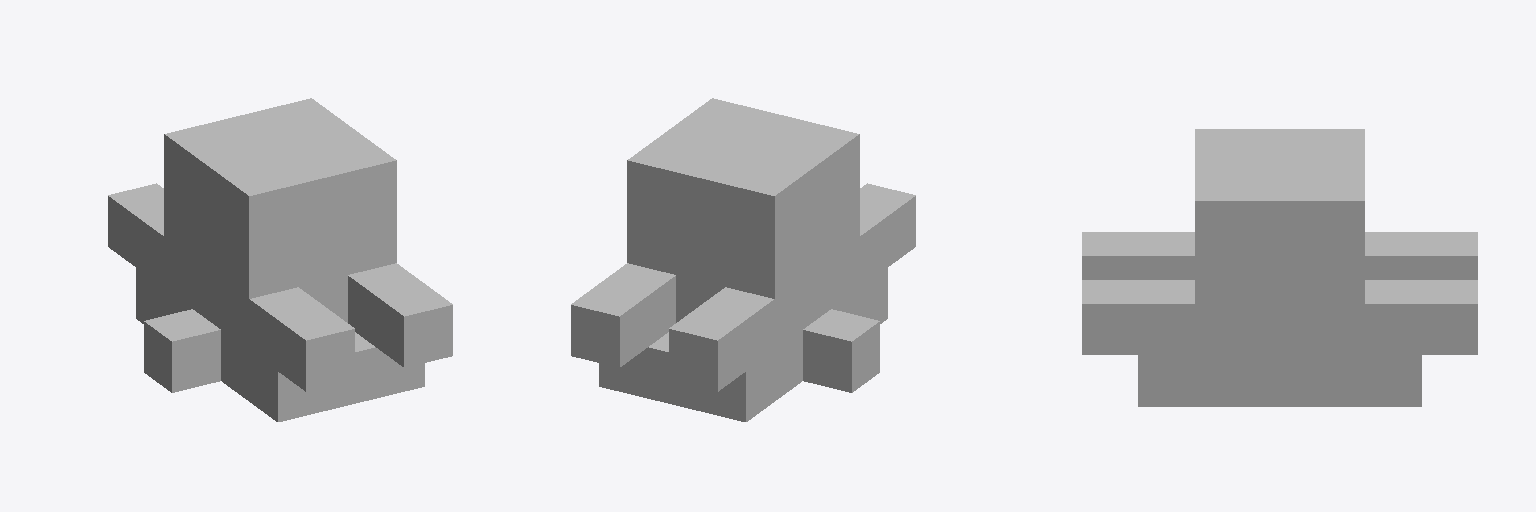
File: badlands_miner_outpost_event_1.obj
3 renders of one model, left to right at view 1: azimuth 30°, elevation 25°; view 2: azimuth 150°, elevation 25°; view 3: azimuth 270°, elevation 25°, orthographic.
Parts seen in each view (by area): view 1: badlands_miner_outpost_event_1; view 2: badlands_miner_outpost_event_1; view 3: badlands_miner_outpost_event_1.
Boxes of the visible parts, <box> form: badlands_miner_outpost_event_1: <box>108,98,452,421</box>; badlands_miner_outpost_event_1: <box>571,98,915,421</box>; badlands_miner_outpost_event_1: <box>1082,129,1477,406</box>.
Bounding box in the file's own units: 4 × 4 × 7.